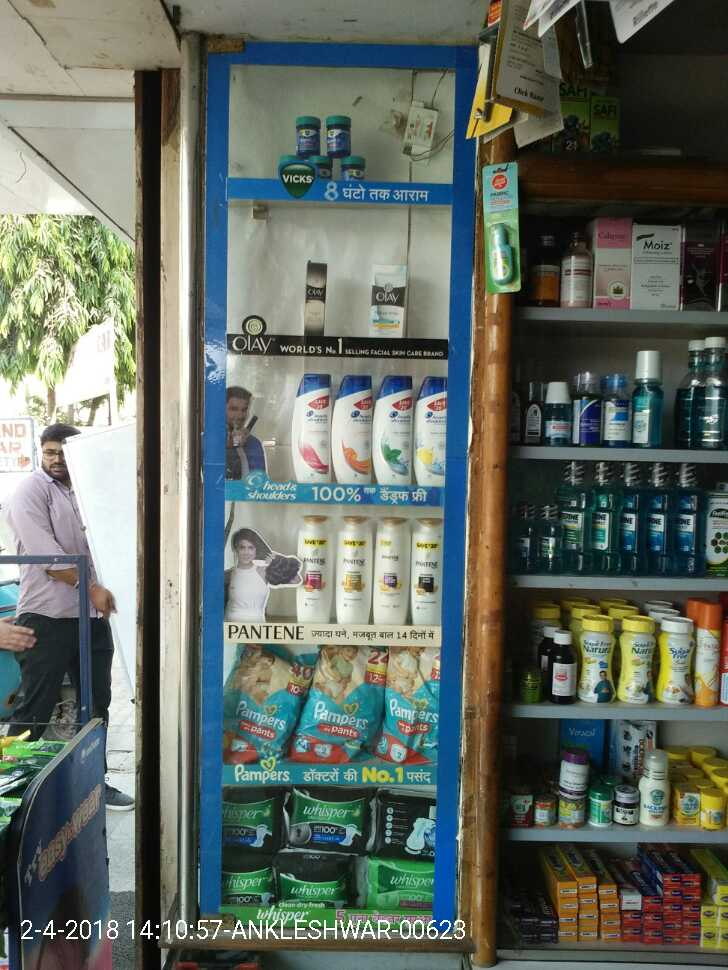vicks: (297, 114, 323, 152), (329, 116, 354, 154), (339, 155, 366, 179), (311, 157, 332, 178)
